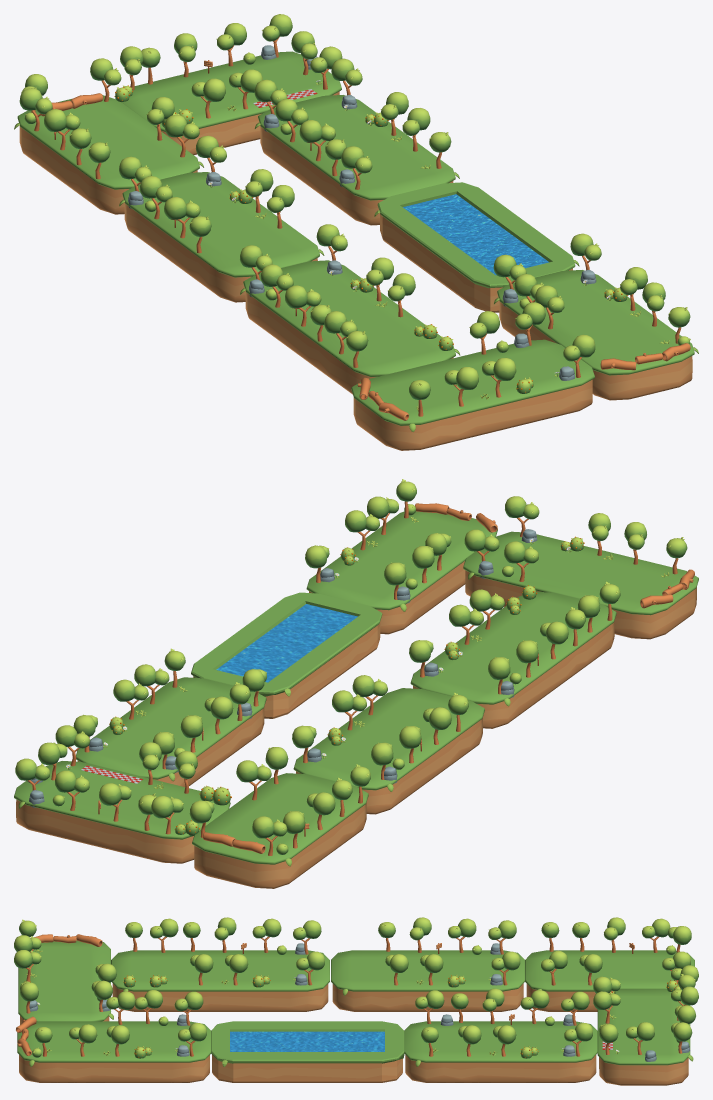
Rendered from LP_ground1.fbx.
3 views of the same model, one above another, from view 1: azimuth 30°, elevation 25°; view 2: azimuth 150°, elevation 25°; view 3: azimuth 270°, elevation 25° (orthographic). The views are drawn at different scales.
Visible parts, largest first — view 1: platform 08, platform 09, platform 05, platform 06, platform 07, platform 04, platform 03, platform 02, Mesh_water, tree 51, tree 13, tree 45 (+20 smaller); view 2: platform 09, platform 08, platform 04, platform 05, platform 02, platform 06, platform 07, platform 03, Mesh_water, tree 21, tree 38, tree 47 (+15 smaller); view 3: platform 09, platform 07, platform 06, platform 05, platform 03, platform 02, platform 08, platform 04, Mesh_water, tree 22, tree 30, tree 48 (+50 smaller).
Boxes of the visible parts, <box> form: platform 08: <box>351,339,594,450</box>; platform 09: <box>240,260,460,394</box>; platform 05: <box>119,172,324,302</box>; platform 06: <box>494,270,698,400</box>; platform 07: <box>254,95,459,225</box>; platform 04: <box>14,95,203,214</box>; platform 03: <box>374,182,579,312</box>; platform 02: <box>121,51,341,154</box>; Mesh_water: <box>403,194,548,275</box>; tree 51: <box>285,285,321,326</box>; tree 13: <box>164,114,199,157</box>; tree 45: <box>299,120,335,161</box>; platform 09: <box>410,591,616,728</box>; platform 08: <box>463,531,698,639</box>; platform 04: <box>192,773,368,888</box>; platform 05: <box>293,688,484,814</box>; platform 02: <box>14,761,230,863</box>; platform 06: <box>306,511,497,634</box>; platform 07: <box>76,677,266,786</box>; platform 03: <box>191,592,382,718</box>; Mesh_water: <box>216,604,357,682</box>; tree 21: <box>332,690,366,730</box>; tree 38: <box>504,541,538,581</box>; tree 47: <box>113,679,148,719</box>; platform 09: <box>111,950,329,1011</box>; platform 07: <box>404,1021,597,1082</box>; platform 06: <box>17,1021,210,1082</box>; platform 05: <box>331,950,524,1011</box>; platform 03: <box>211,1021,404,1082</box>; platform 02: <box>597,988,693,1085</box>; platform 08: <box>18,940,113,1024</box>; platform 04: <box>525,950,694,1011</box>; Mesh_water: <box>230,1031,384,1051</box>; tree 22: <box>491,951,520,985</box>; tree 30: <box>178,1023,206,1056</box>; tree 48: <box>296,951,324,985</box>.
Bounding box in the file's own units: 16963 × 3597 × 39672.
3 materials, 3 textured.
